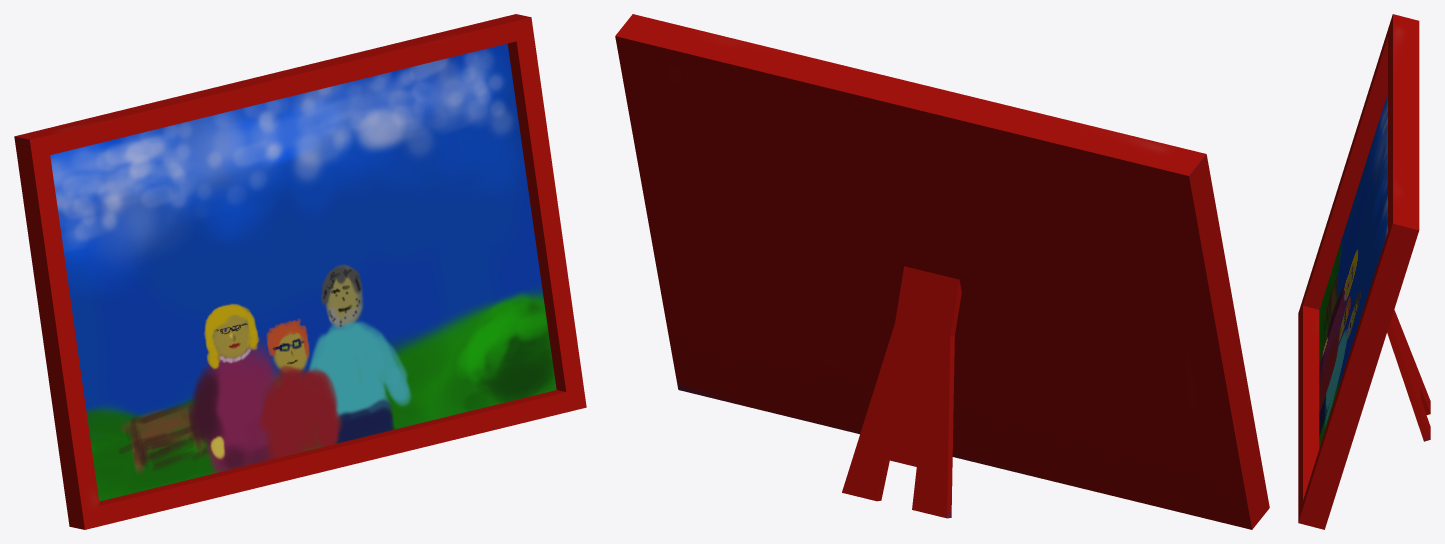
Rendered from PictureFrame.fbx.
3 views of the same model, side by side, from view 1: azimuth 30°, elevation 25°; view 2: azimuth 150°, elevation 25°; view 3: azimuth 270°, elevation 25° (orthographic). The views are drawn at different scales.
Visible parts, largest first — view 1: Picture Frame; view 2: Picture Frame; view 3: Picture Frame.
Boxes of the visible parts, bbox=[...] form: Picture Frame: bbox=[14, 14, 586, 529]; Picture Frame: bbox=[615, 14, 1269, 529]; Picture Frame: bbox=[1298, 14, 1430, 529].
Size of the model in its own units: 289 by 197 by 77.06.
1 material, 1 textured.
